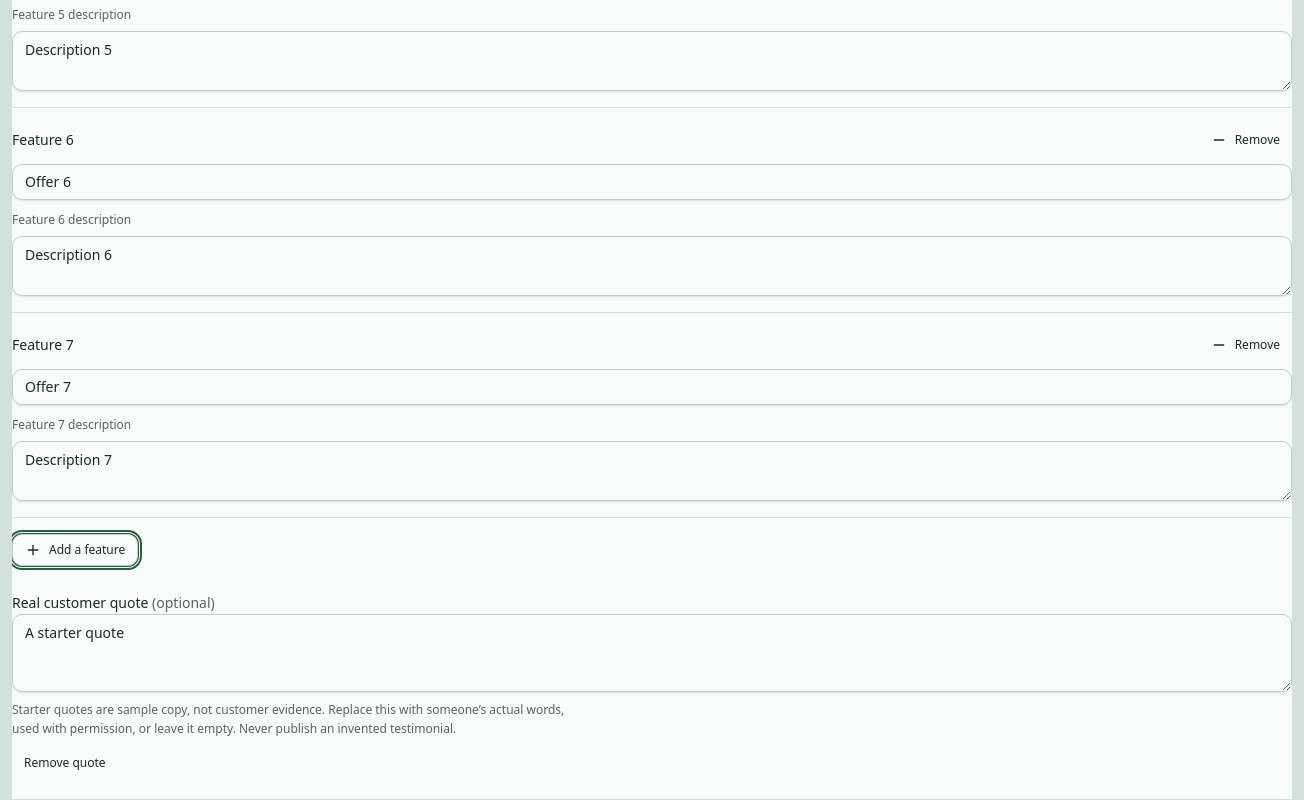
it: content editor focus after owner acceptance › focuses the newly accepted feature title after adding to 7 offers
(page scrolled)
Click the button "Add a feature". click: {"x": 75, "y": 550}
box: left=12, top=534, right=138, bottom=566
(page scrolled)
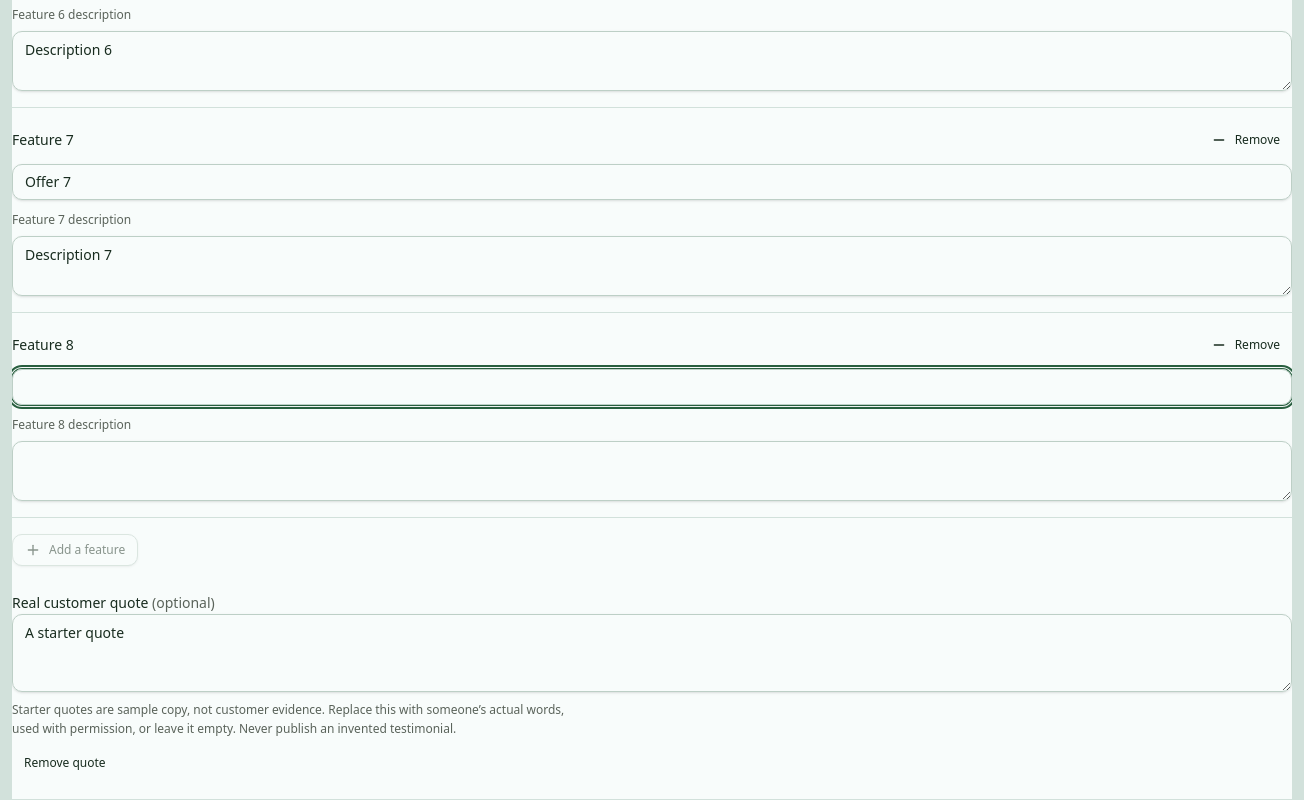
Expected: the button "Add a feature" is disabled, left=12, top=534, right=138, bottom=566
